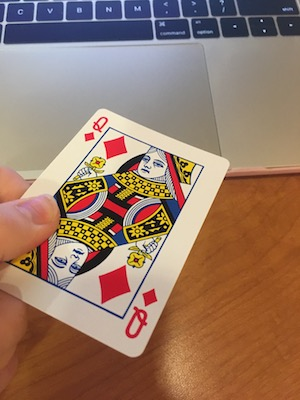QueenOfDiamonds: (10, 102, 241, 364)
